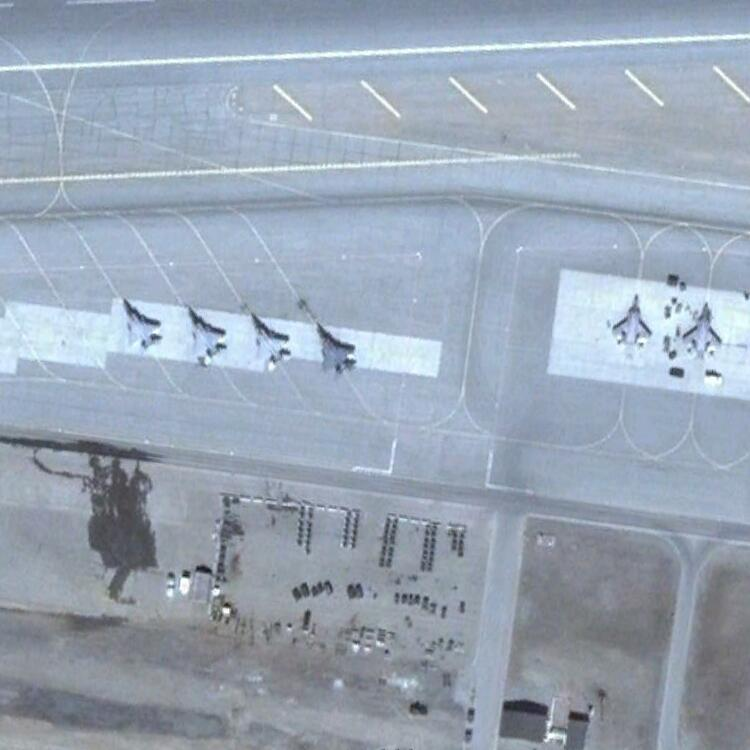A13: (244, 310, 294, 372), (312, 321, 360, 379), (116, 297, 165, 353), (182, 307, 231, 363)
A15: (680, 301, 724, 361), (611, 295, 652, 349)
